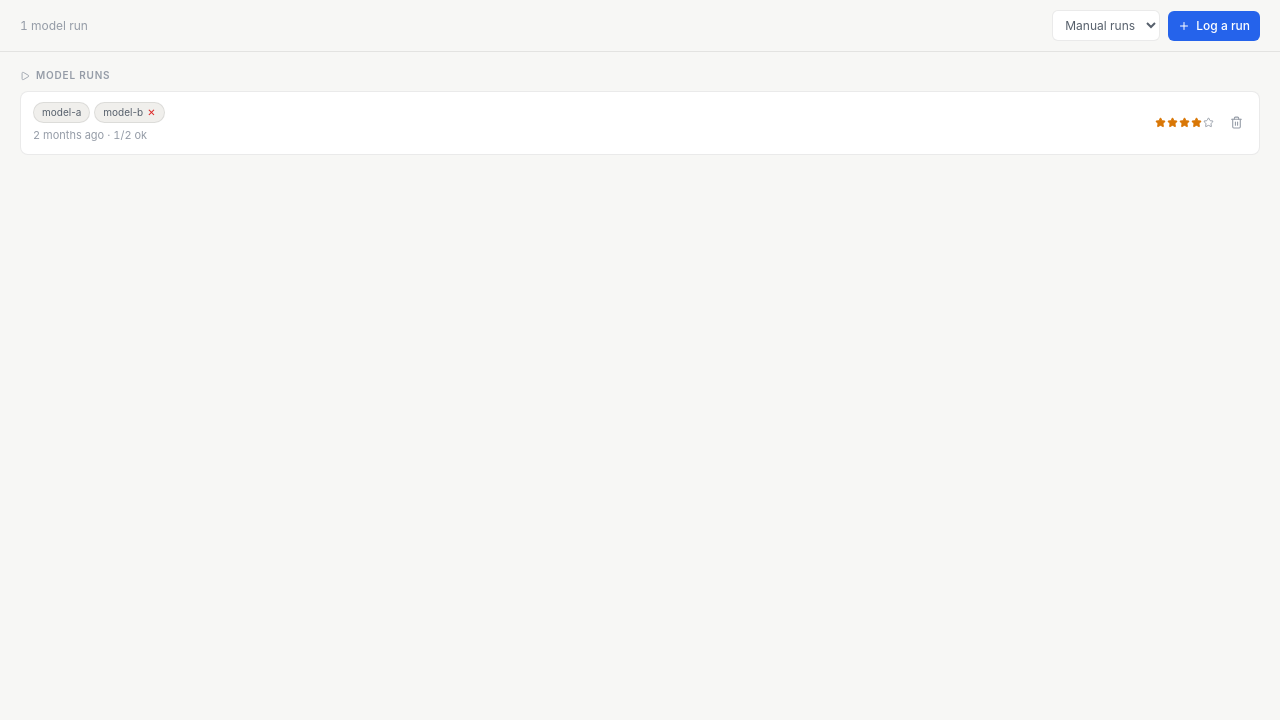
Test: ResultsTab › deletes a whole model-run group from its visible card action
The image size is (1280, 720).
Expected: the text "model-a" is shown, [33,102,90,123]
Click the button named "Delete model run" at (1236, 123), box [1226,112,1247,133]
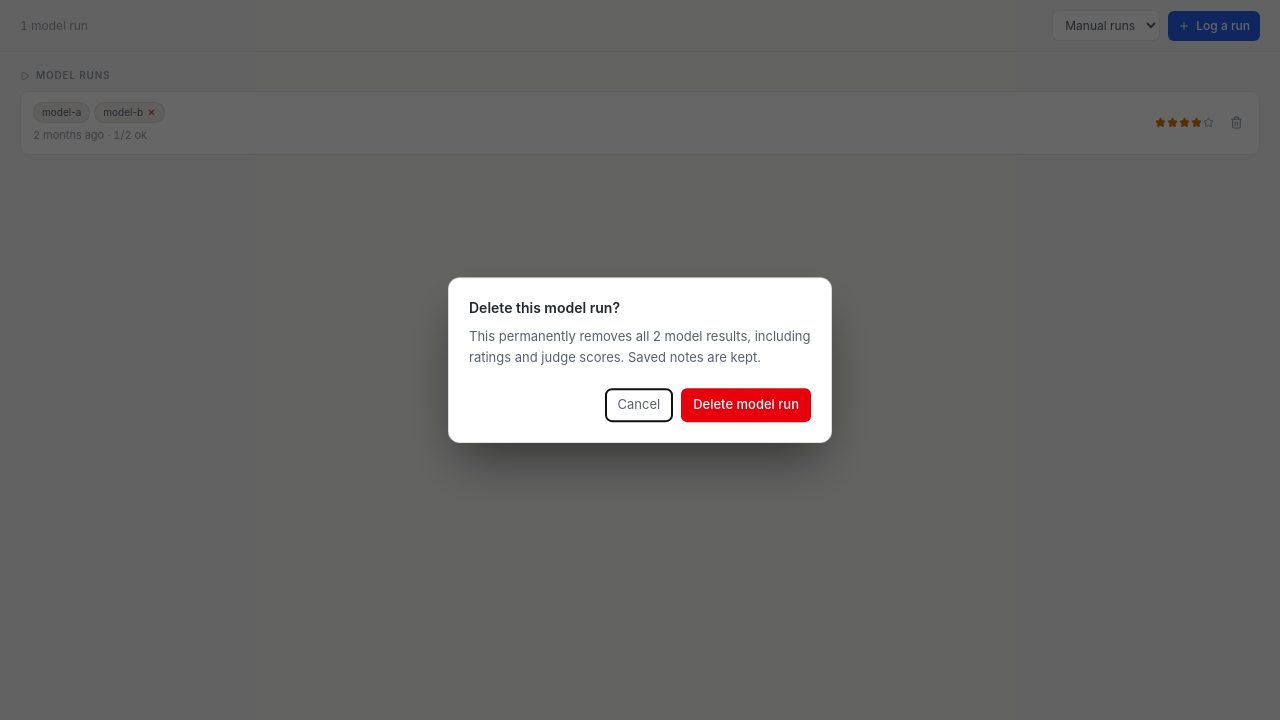
Result: the text "permanently removes all 2 model results" is shown at [469,328,810,365]
Click the button "Delete model run" at (746, 405), box [681,388,811,422]
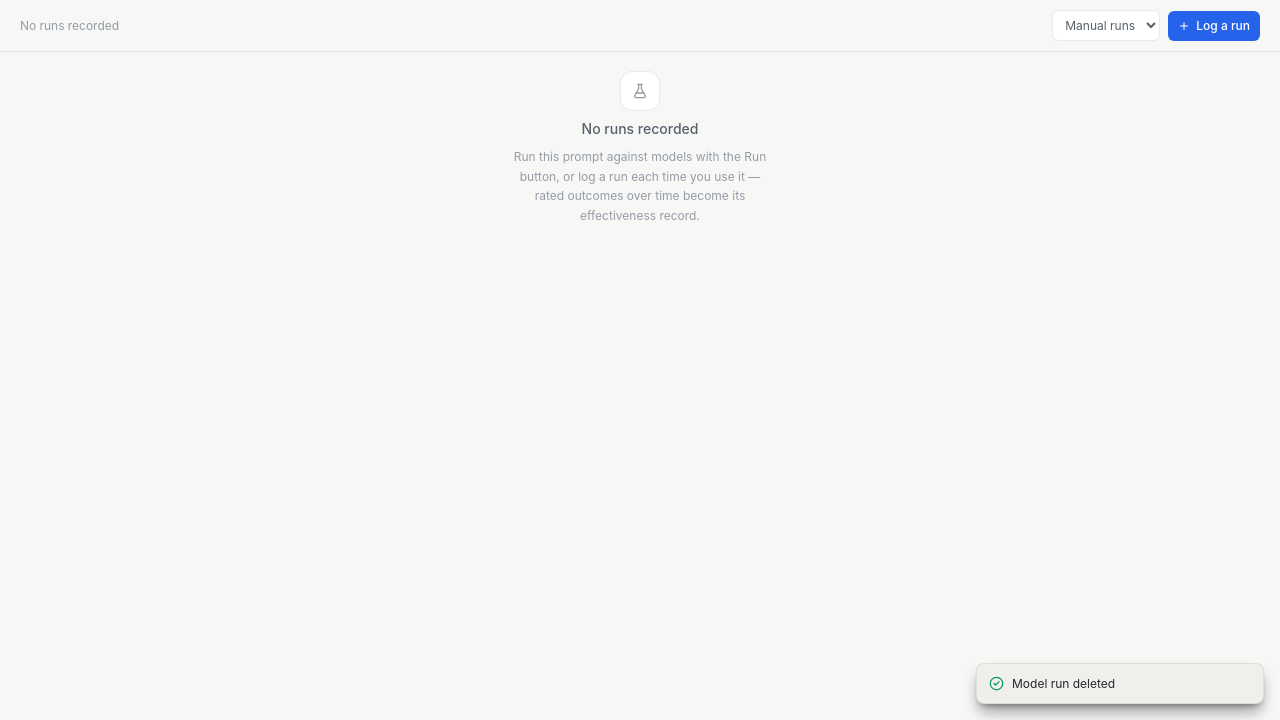
Expected: the text "No runs recorded" is shown 2 times, [20,16,119,34]; [582,119,698,139]
Result: the button "model-a" is gone
